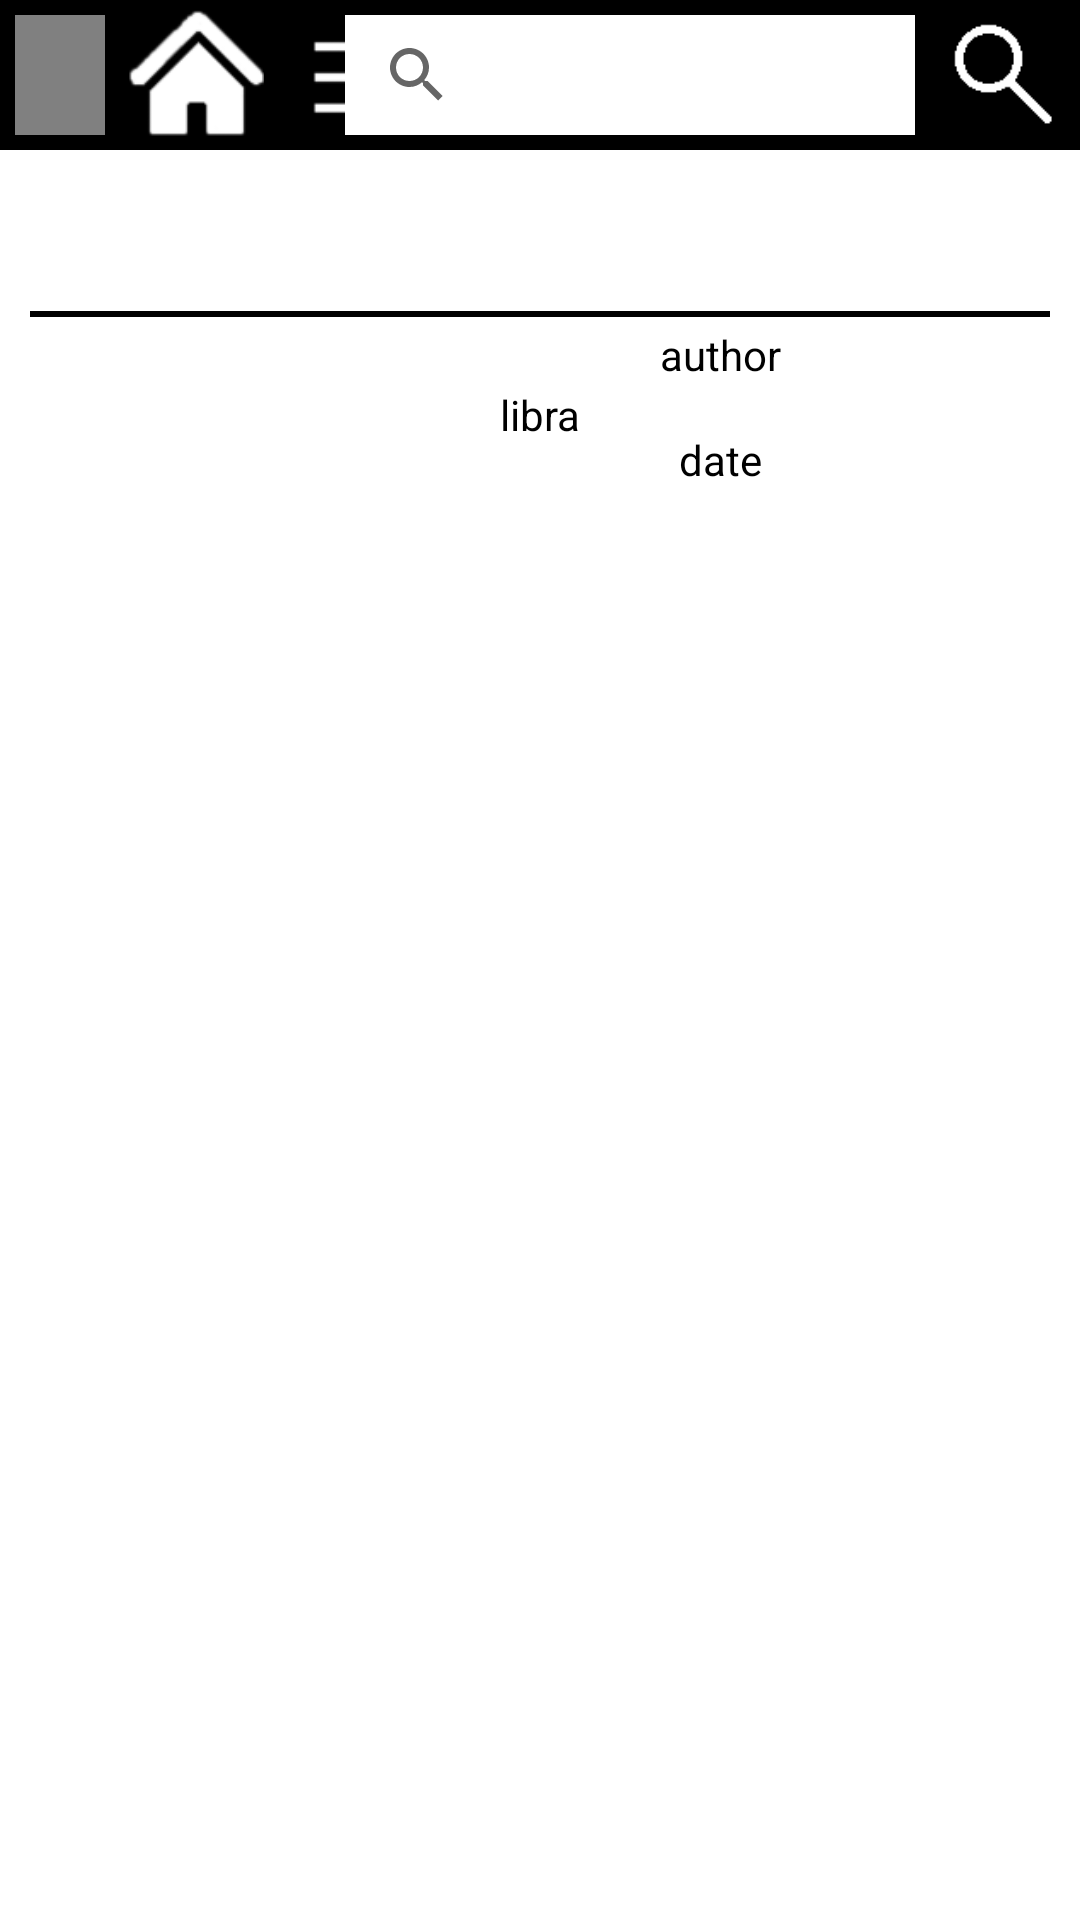

Icon click points for this 1080 × 1920 phone screenshot, format (x=x, y=y):
This button is used to open/close the search bar: (x=1003, y=74)
This button is used to return to the home screen of the app: (x=196, y=73)
